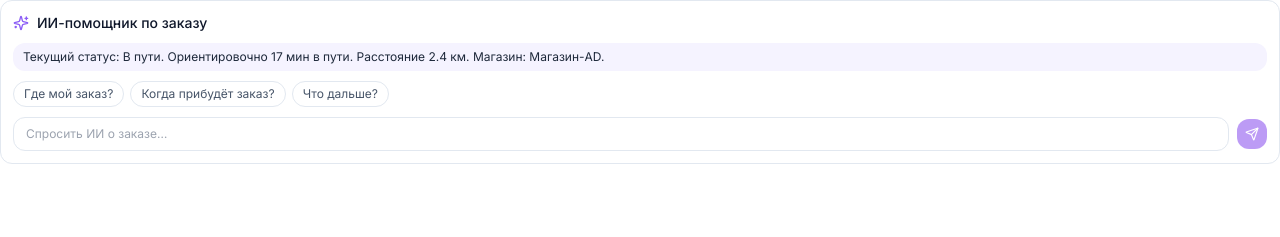
Test: OrderAiChat › отказ ИИ → системная подсказка, чат не падает
The image size is (1280, 237).
Expected: the text "Текущий статус: В пути" is shown, x1=23 y1=49 x2=604 y2=64
Click the button "Где мой заказ?".
click(69, 94)  # box x1=13 y1=81 x2=124 y2=107
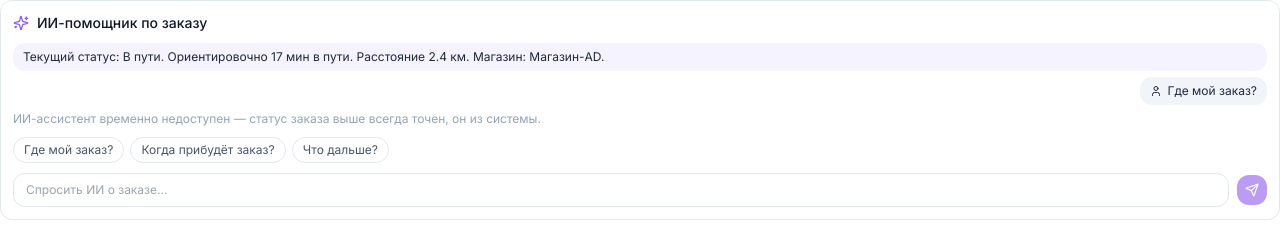
Now the text "временно недоступен" is shown, box x1=13 y1=111 x2=541 y2=126
Now the text "Где мой заказ?" is shown, box x1=1168 y1=83 x2=1257 y2=98
